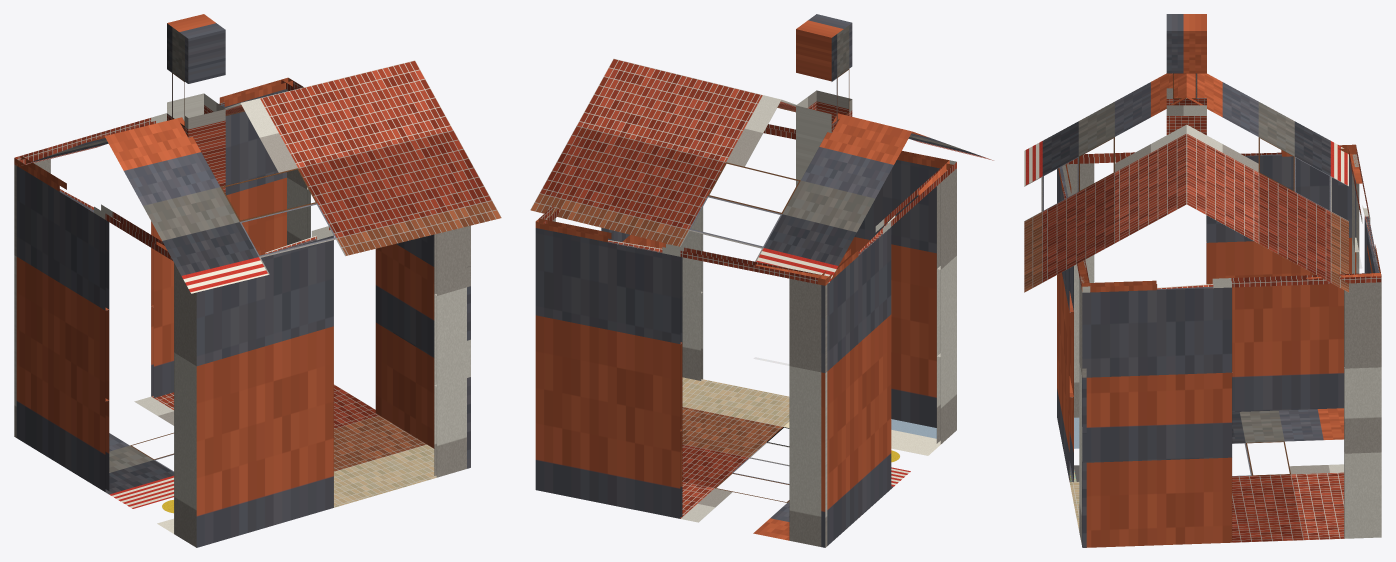
3 views of the same model, side by side, from view 1: azimuth 30°, elevation 25°; view 2: azimuth 150°, elevation 25°; view 3: azimuth 270°, elevation 25° (orthographic). The views are drawn at different scales.
Visible parts, largest first — view 1: 673733257__wall_0_xb, 673733257_roof_-1_xb, 673733257__wall_3_xb, 673733257__wall_1_xb, 673733257__base, 673733257__wall_2_xb, 673733257__chimney_0_xb, 673733257__cornice_2, 673733257__cornice_3, 673733257_roof_1_xb; view 2: 673733257__wall_2_xb, 673733257_roof_1_xb, 673733257__wall_3_xb, 673733257__wall_0_xb, 673733257__base, 673733257__chimney_0_xb, 673733257__cornice_2, 673733257__cornice_3, 673733257__cornice_0, 673733257_roof_-1_xb; view 3: 673733257__wall_1_xb, 673733257__wall_3_xb, 673733257_roof_-1_xb, 673733257_roof_1_xb, 673733257__base, 673733257__wall_0_xb, 673733257__chimney_0_xb, 673733257__cornice_1, 673733257__wall_2_xb, 673733257__cornice_3, 673733257__cornice_2.
Boxes of the visible parts, box(x1,y1,x2,y2) form: 673733257__wall_0_xb: box(196, 225, 470, 547); 673733257_roof_-1_xb: box(104, 60, 501, 293); 673733257__wall_3_xb: box(16, 166, 196, 547); 673733257__wall_1_xb: box(287, 90, 470, 468); 673733257__base: box(105, 384, 436, 533); 673733257__wall_2_xb: box(14, 89, 286, 437); 673733257__chimney_0_xb: box(167, 14, 225, 193); 673733257__cornice_2: box(14, 78, 292, 166); 673733257__cornice_3: box(19, 156, 172, 260); 673733257_roof_1_xb: box(24, 103, 244, 164); 673733257__wall_2_xb: box(535, 228, 827, 547); 673733257_roof_1_xb: box(530, 58, 912, 282); 673733257__wall_3_xb: box(821, 168, 956, 547); 673733257__wall_0_xb: box(669, 160, 939, 427); 673733257__base: box(680, 377, 940, 540); 673733257__chimney_0_xb: box(796, 14, 852, 186); 673733257__cornice_2: box(535, 218, 828, 285); 673733257__cornice_3: box(818, 160, 956, 285); 673733257__cornice_0: box(763, 124, 952, 169); 673733257_roof_-1_xb: box(777, 100, 994, 160); 673733257__wall_1_xb: box(1082, 282, 1381, 547); 673733257__wall_3_xb: box(1062, 154, 1356, 417); 673733257_roof_-1_xb: box(1024, 73, 1186, 292); 673733257_roof_1_xb: box(1186, 73, 1348, 292); 673733257__base: box(1069, 408, 1344, 542); 673733257__wall_0_xb: box(1057, 166, 1086, 547); 673733257__chimney_0_xb: box(1166, 14, 1206, 135); 673733257__cornice_1: box(1081, 273, 1381, 292); 673733257__wall_2_xb: box(1352, 154, 1379, 273); 673733257__cornice_3: box(1067, 144, 1356, 164); 673733257__cornice_2: box(1348, 145, 1380, 276).
Bounding box in the file's own units: 1.25 × 1.75 × 1.33.
Materials: 1 (1 with a texture image).
